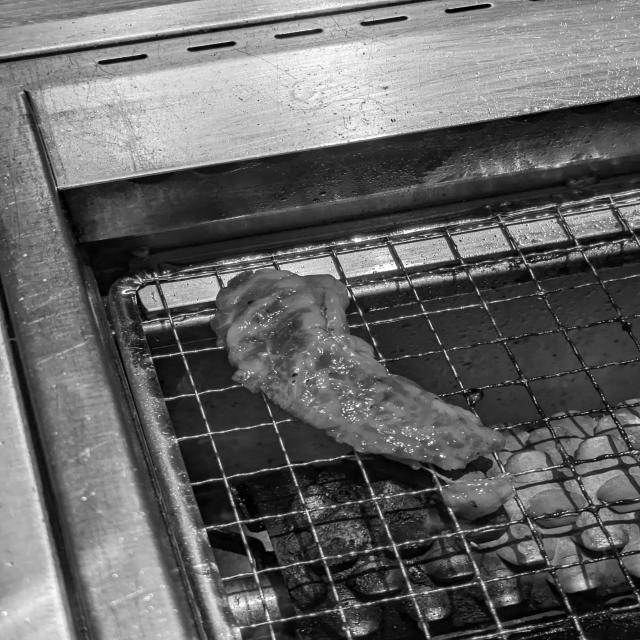NG raw beef,: (189, 257, 534, 530)
